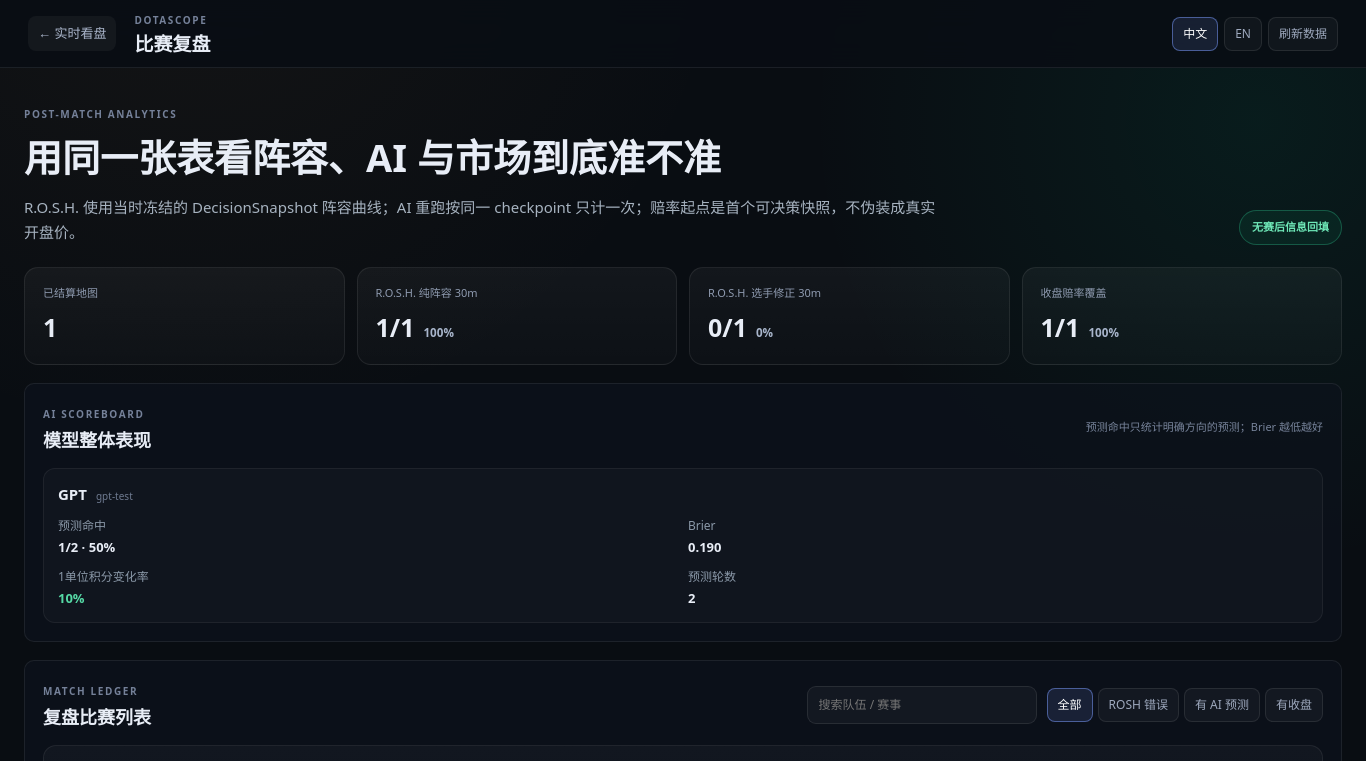
Test case: filters the ledger to R.O.S.H. misses
Click the button "ROSH 错误" at (1138, 705), box [1098,688,1179,722]
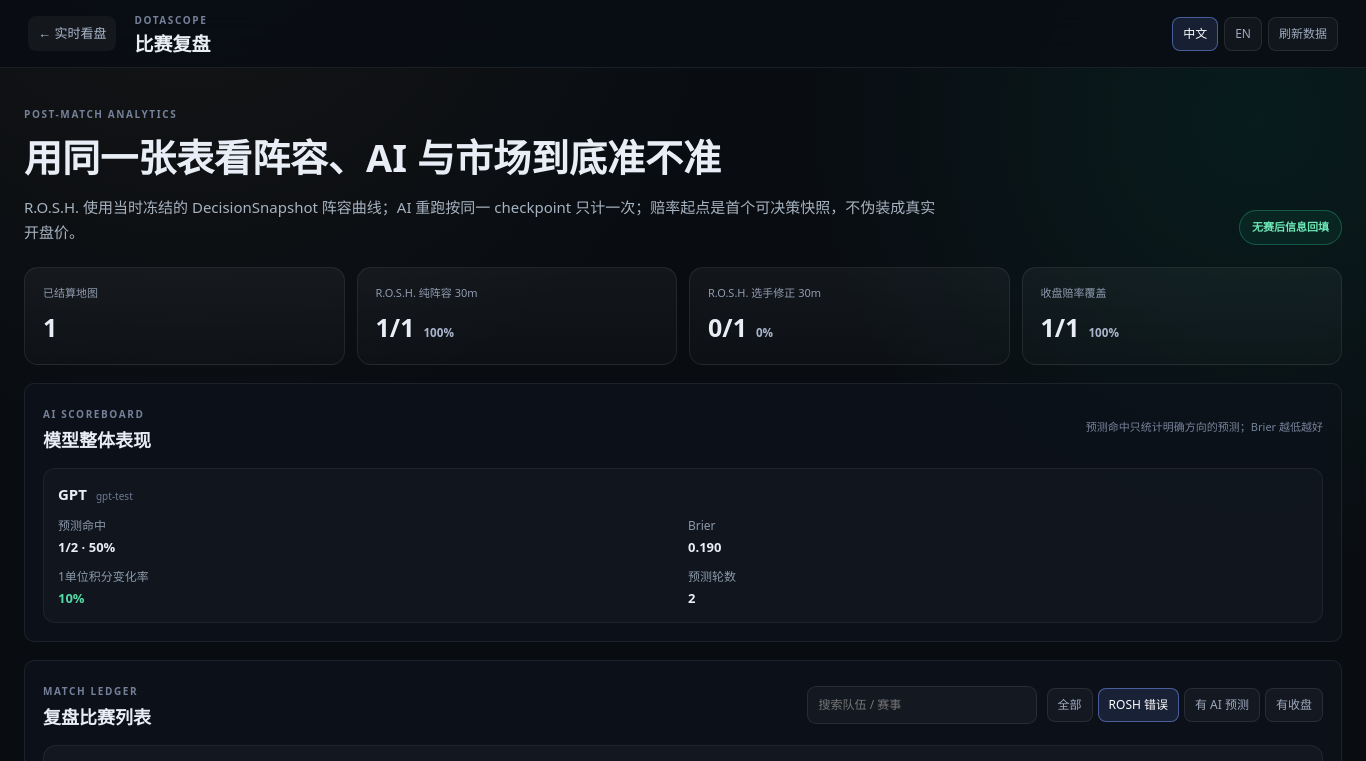
Type "不存在" into the field with placeholder "搜索队伍 / 赛事" at (922, 705), box [806,686,1036,724]
(page scrolled)
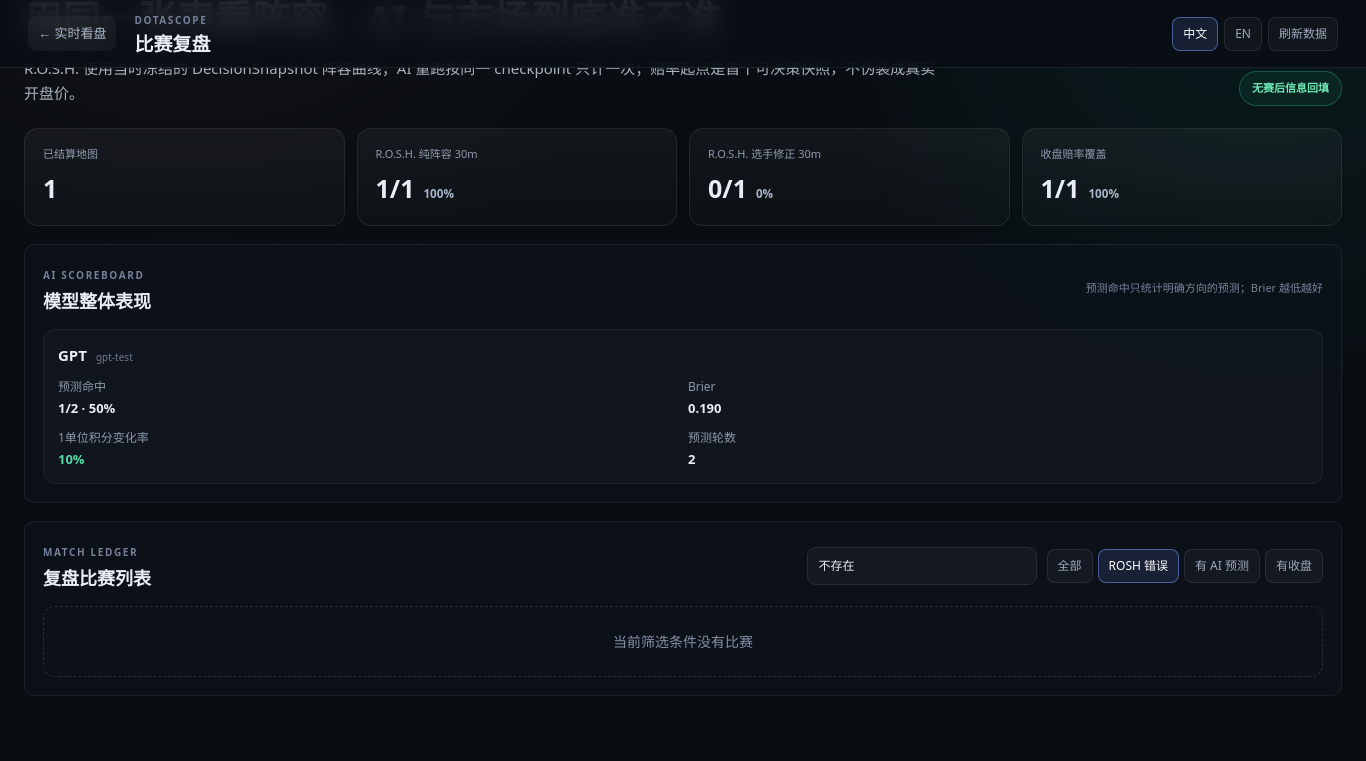
Check: the text "当前筛选条件没有比赛" is shown, box [43,606,1323,677]
